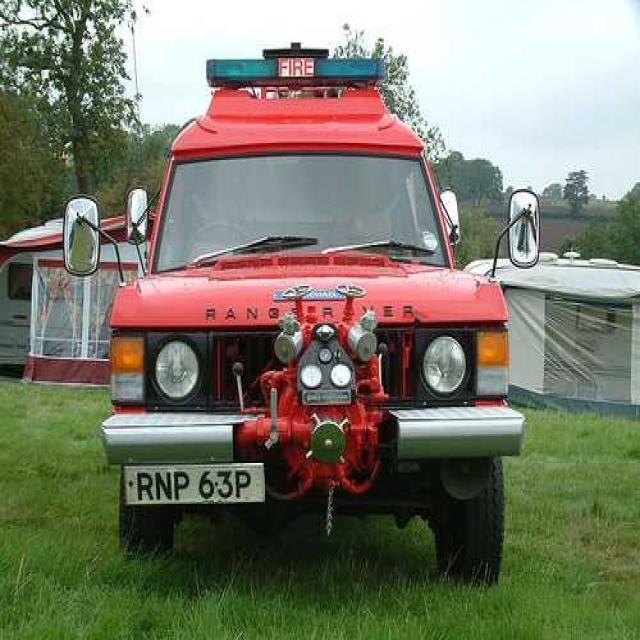ambulance: (39, 31, 565, 565)
